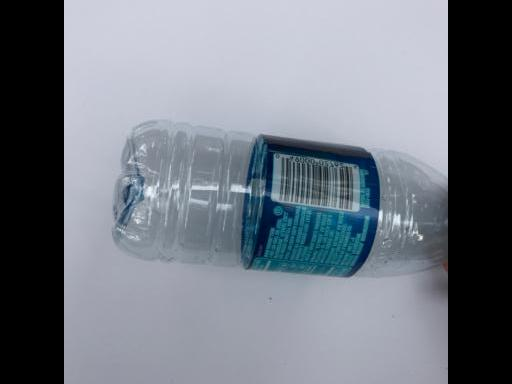bottle: (106, 109, 448, 292)
